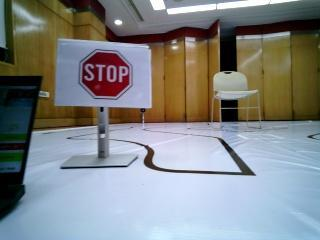stop: (65, 43, 143, 102)
